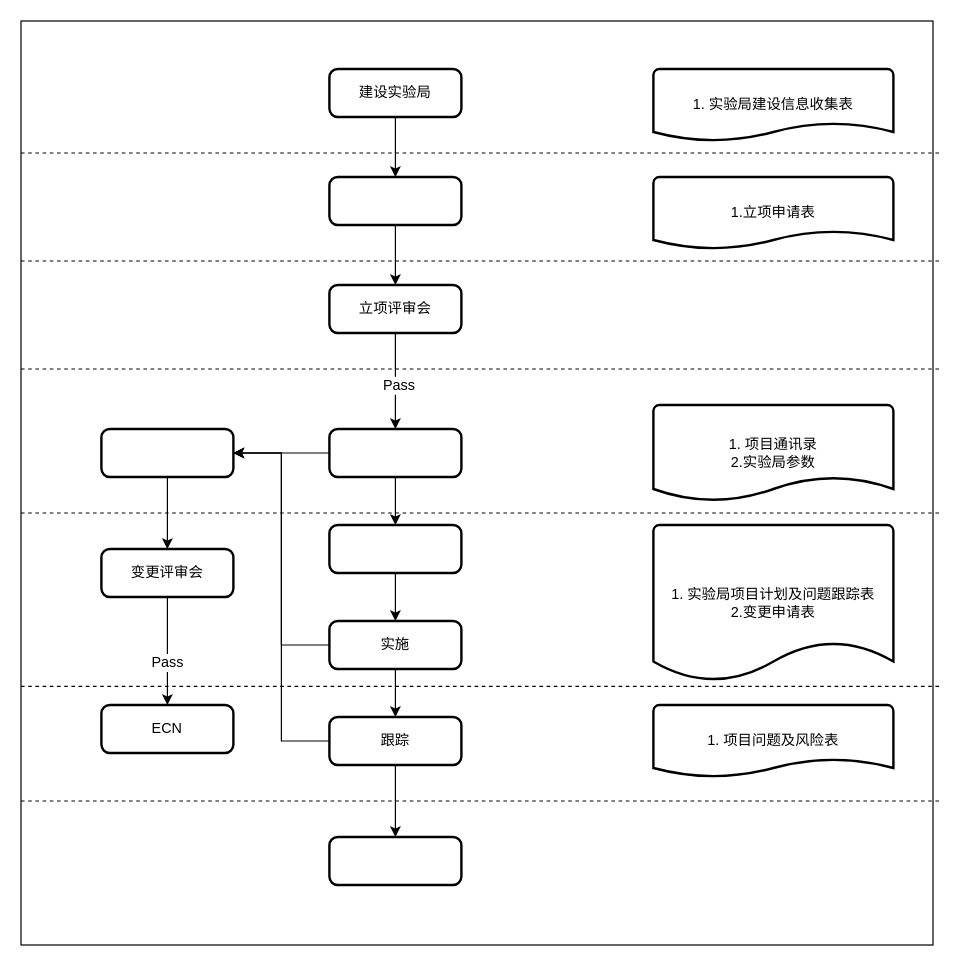
The diagram is 964 pixels wide and 966 high, and some of its shapes have lost their labels. Each missing label, with the box of its shape:
ECR: (100, 427, 234, 478)
交付前准备: (328, 523, 462, 574)
建设规划: (328, 427, 462, 478)
立项: (328, 175, 462, 226)
结项: (328, 835, 462, 886)
